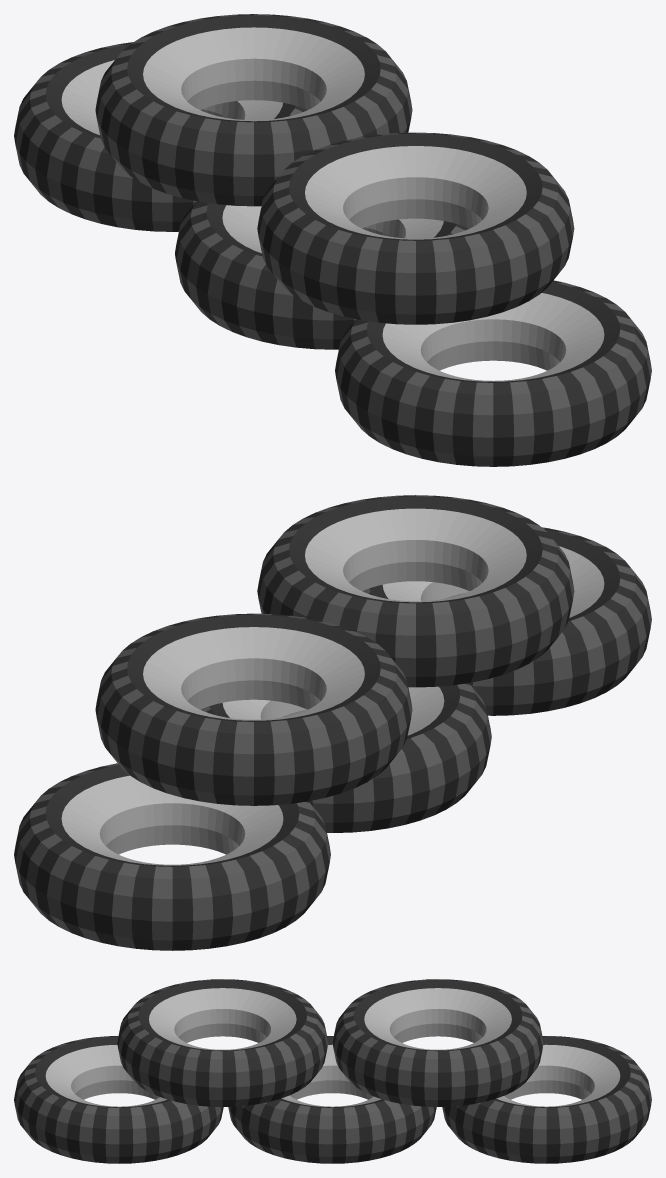
The model's file is tire barricade section.fbx.
3 renders of one model, top to bottom at view 1: azimuth 30°, elevation 25°; view 2: azimuth 150°, elevation 25°; view 3: azimuth 270°, elevation 25°, orthographic. The views are drawn at different scales.
Visible parts, largest first — view 1: Torus.003, Torus.004, Torus.002, Torus.001, Torus; view 2: Torus.004, Torus.003, Torus.001, Torus.002, Torus; view 3: Torus.004, Torus.003, Torus.001, Torus.002, Torus.
Boxes of the visible parts, x1=… form: Torus.003: x1=257, y1=132, x2=574, y2=324; Torus.004: x1=95, y1=14, x2=412, y2=206; Torus.002: x1=335, y1=280, x2=651, y2=466; Torus.001: x1=14, y1=42, x2=307, y2=231; Torus: x1=175, y1=201, x2=468, y2=349; Torus.004: x1=95, y1=613, x2=412, y2=805; Torus.003: x1=257, y1=495, x2=574, y2=687; Torus.001: x1=14, y1=763, x2=330, y2=950; Torus.002: x1=362, y1=527, x2=651, y2=715; Torus: x1=200, y1=683, x2=491, y2=832; Torus.004: x1=332, y1=979, x2=543, y2=1106; Torus.003: x1=117, y1=979, x2=328, y2=1106; Torus.001: x1=442, y1=1036, x2=651, y2=1163; Torus.002: x1=14, y1=1036, x2=223, y2=1163; Torus: x1=228, y1=1036, x2=436, y2=1163.
Size of the model in its own units: 250 by 146 by 756.
